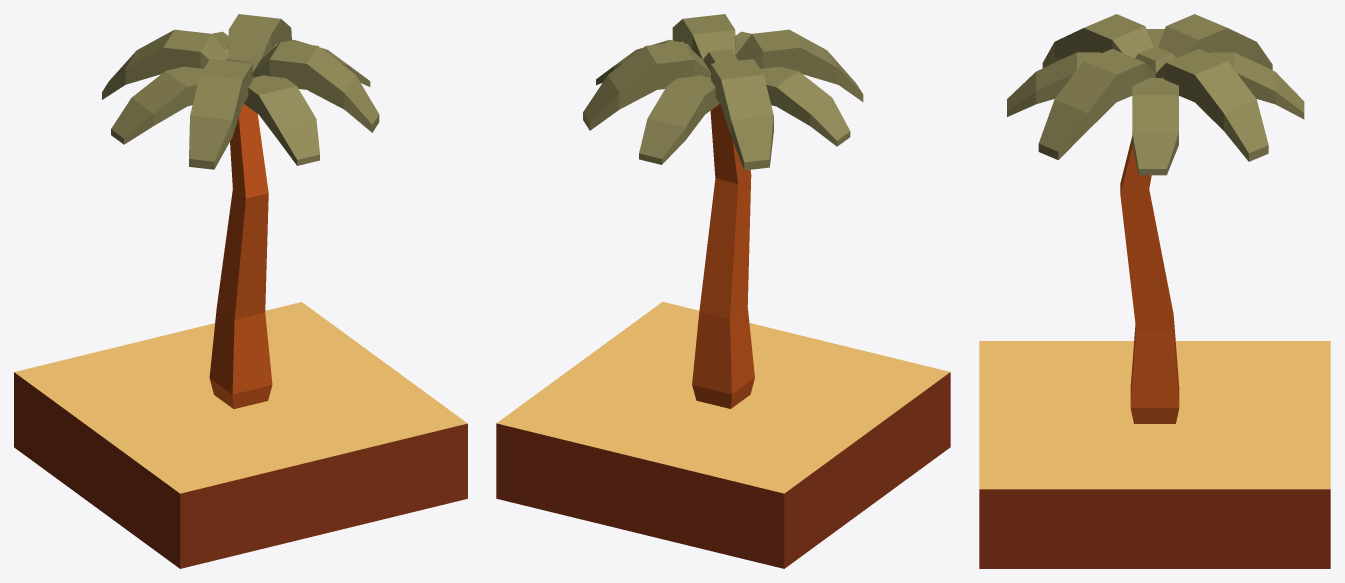
Rendered from sand_palm.fbx.
3 views of the same model, side by side, from view 1: azimuth 30°, elevation 25°; view 2: azimuth 150°, elevation 25°; view 3: azimuth 270°, elevation 25° (orthographic). The views are drawn at different scales.
Parts seen in each view (by area): view 1: palmera; view 2: palmera; view 3: palmera.
Part boxes in pixels (<box>): palmera: <box>14,14,467,568</box>; palmera: <box>496,14,950,568</box>; palmera: <box>979,14,1330,568</box>.
Bounding box in the file's own units: 200 × 283 × 200.
